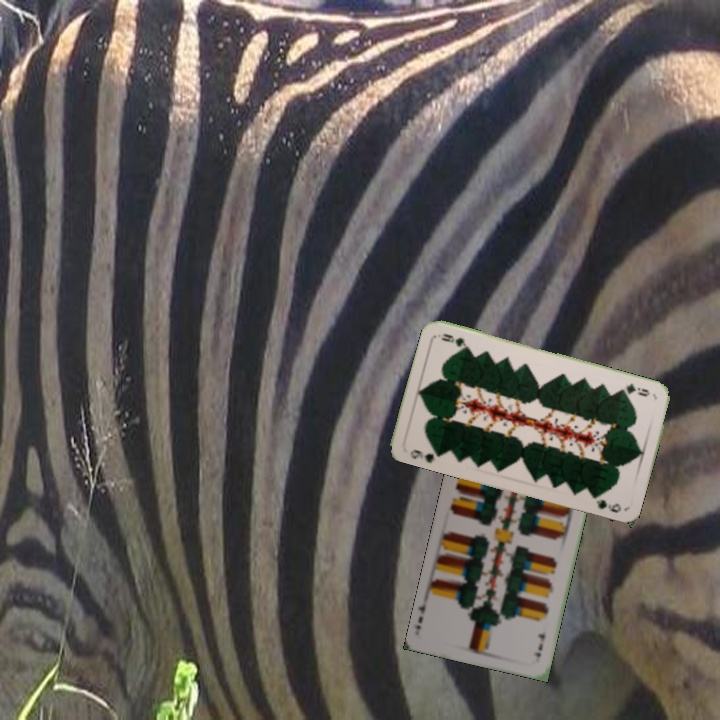E7: (529, 626, 548, 660)
G9: (406, 445, 444, 466), (616, 379, 652, 399)
